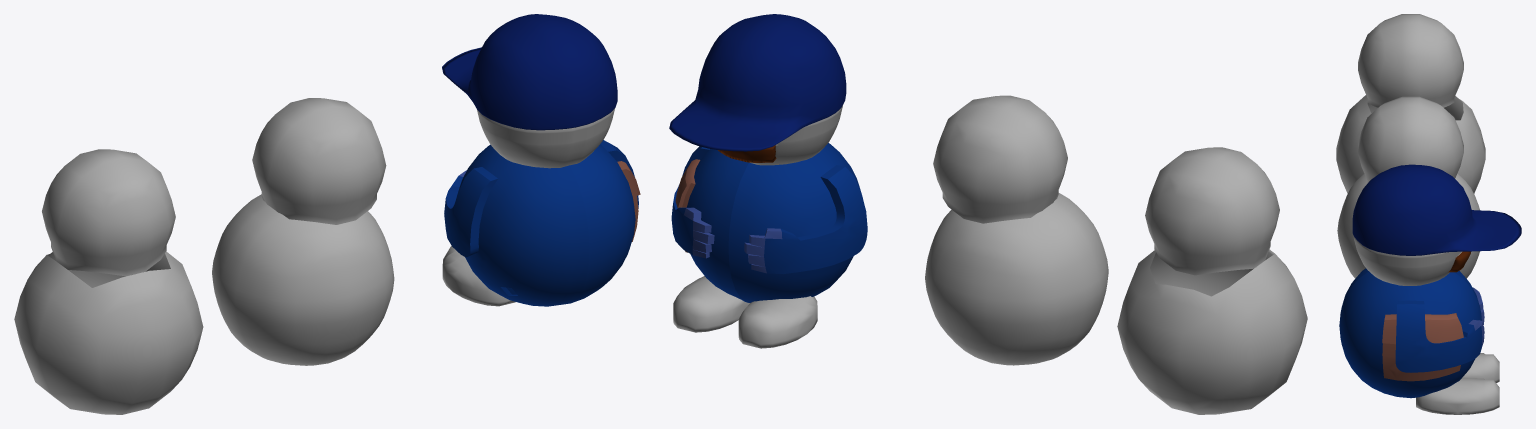
File: Player.fbx
The picture shows the model from 3 angles, left to right: view 1: azimuth 30°, elevation 25°; view 2: azimuth 150°, elevation 25°; view 3: azimuth 270°, elevation 25°; orthographic projection. The views are drawn at different scales.
Parts seen in each view (by area): view 1: vücut, pCube11, pCube9, şapka, pCube10, pCube8, kafa, ayak; view 2: vücut, pCube11, pCube9, şapka, pCube10, pCube8, ayak, kafa; view 3: vücut, şapka, pCube10, pCube8, pCube9, ayak, kafa, pCube11.
Boxes of the visible parts, x1,y1,x2,y2 form: vücut: [444, 140, 640, 306]; pCube11: [212, 194, 394, 365]; pCube9: [14, 251, 203, 414]; şapka: [442, 14, 617, 130]; pCube10: [42, 149, 175, 276]; pCube8: [252, 98, 386, 224]; kafa: [477, 108, 614, 168]; ayak: [442, 246, 515, 306]; vücut: [671, 143, 867, 302]; pCube11: [925, 193, 1108, 365]; pCube9: [1117, 249, 1307, 414]; şapka: [669, 14, 846, 151]; pCube10: [1145, 147, 1279, 275]; pCube8: [933, 95, 1067, 223]; ayak: [673, 276, 817, 348]; kafa: [718, 105, 842, 165]; vücut: [1339, 268, 1484, 398]; şapka: [1352, 164, 1521, 255]; pCube10: [1358, 14, 1463, 107]; pCube8: [1358, 96, 1463, 182]; pCube9: [1336, 95, 1485, 193]; ayak: [1416, 353, 1499, 414]; kafa: [1353, 235, 1470, 285]; pCube11: [1337, 173, 1479, 278].
Size of the model in its own units: 8.04 by 3.51 by 2.66.
